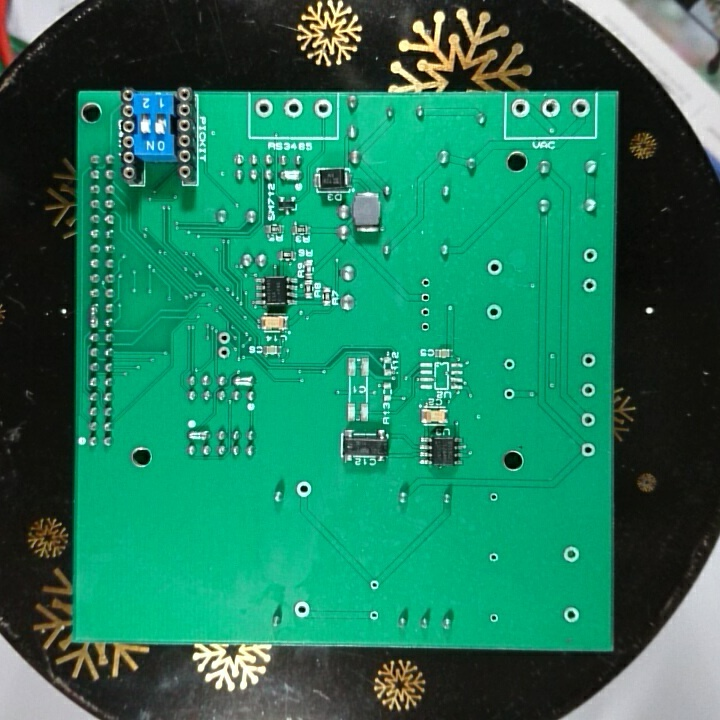F: (282, 95, 305, 121), (569, 97, 592, 122), (538, 97, 563, 120), (253, 97, 276, 121), (559, 543, 583, 565), (509, 98, 533, 120), (313, 96, 334, 120), (485, 258, 507, 280), (294, 478, 315, 501), (561, 605, 583, 626), (291, 599, 313, 620), (485, 301, 504, 325), (580, 274, 599, 296), (580, 246, 599, 266), (579, 380, 597, 400), (579, 411, 597, 430), (579, 352, 598, 370), (579, 441, 597, 459), (501, 355, 517, 373), (216, 329, 234, 345), (366, 577, 382, 593), (215, 345, 231, 361), (502, 386, 517, 403), (367, 608, 382, 624), (418, 276, 434, 291), (486, 549, 500, 566), (487, 611, 501, 627), (419, 289, 433, 305), (418, 305, 434, 319), (417, 320, 431, 334), (488, 489, 500, 504)
P: (278, 167, 305, 183), (231, 372, 256, 389), (87, 302, 101, 330), (185, 428, 211, 443)
